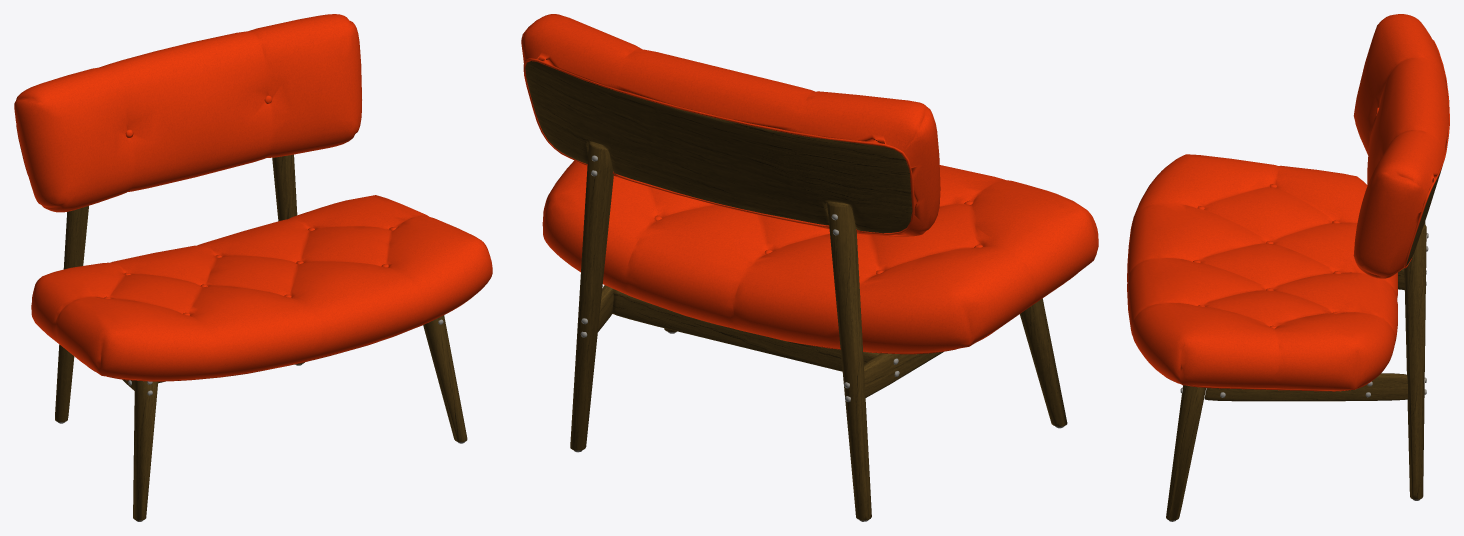
Rendered from SheenChair-medium-lossy.glb.
3 views of the same model, side by side, from view 1: azimuth 30°, elevation 25°; view 2: azimuth 150°, elevation 25°; view 3: azimuth 270°, elevation 25° (orthographic). The views are drawn at different scales.
Parts seen in each view (by area): view 1: SheenChair_fabric, SheenChair_wood; view 2: SheenChair_fabric, SheenChair_wood; view 3: SheenChair_fabric, SheenChair_wood.
Boxes of the visible parts, x1,y1,x2,y2 form: SheenChair_fabric: [14, 14, 492, 381]; SheenChair_wood: [55, 154, 467, 520]; SheenChair_fabric: [521, 14, 1098, 354]; SheenChair_wood: [525, 61, 1067, 520]; SheenChair_fabric: [1127, 14, 1449, 391]; SheenChair_wood: [1166, 168, 1441, 520].
Bounding box in the file's own units: 0.8265 × 0.6861 × 0.57.
Materials: 4 (3 with a texture image).
